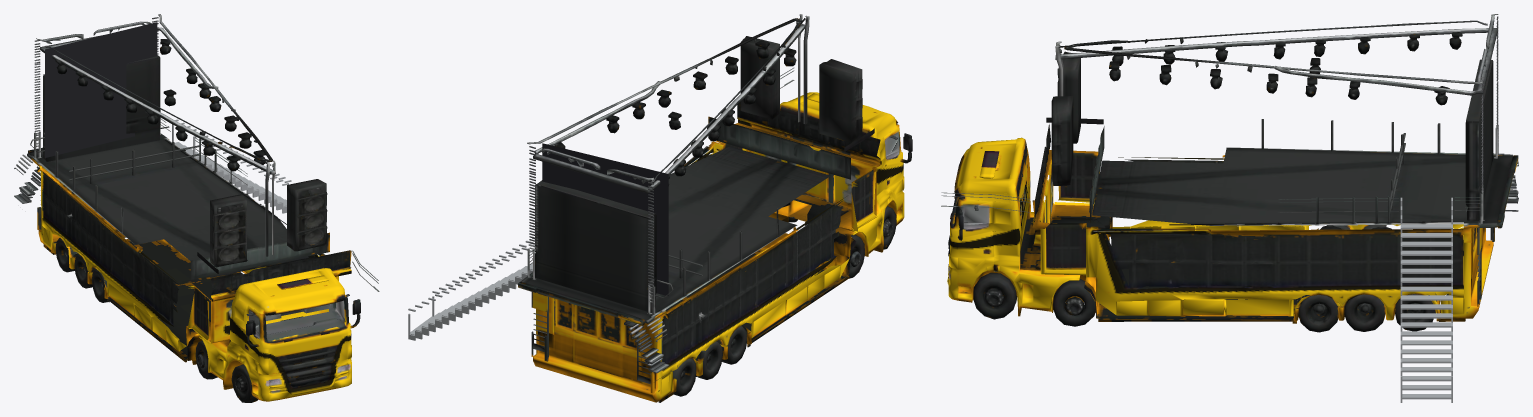
Rendered from palanque-2.glb.
3 renders of one model, left to right at view 1: azimuth 30°, elevation 25°; view 2: azimuth 150°, elevation 25°; view 3: azimuth 270°, elevation 25°, orthographic. The views are drawn at different scales.
Visible parts, largest first — view 1: Palanque, Backdrop, Stairs; view 2: Palanque, Backdrop, Stairs; view 3: Palanque, Stairs.
Part boxes in pixels (left/top/right/bottom): Palanque: left=14, top=14, right=379, bottom=402; Backdrop: left=45, top=22, right=157, bottom=157; Stairs: left=172, top=119, right=291, bottom=213; Palanque: left=518, top=14, right=912, bottom=402; Backdrop: left=542, top=143, right=668, bottom=295; Stairs: left=408, top=238, right=534, bottom=340; Palanque: left=941, top=14, right=1518, bottom=332; Stairs: left=1400, top=197, right=1452, bottom=402.
Bounding box in the file's own units: 11.87 × 9.57 × 19.87.
Materials: 3 (1 with a texture image).
